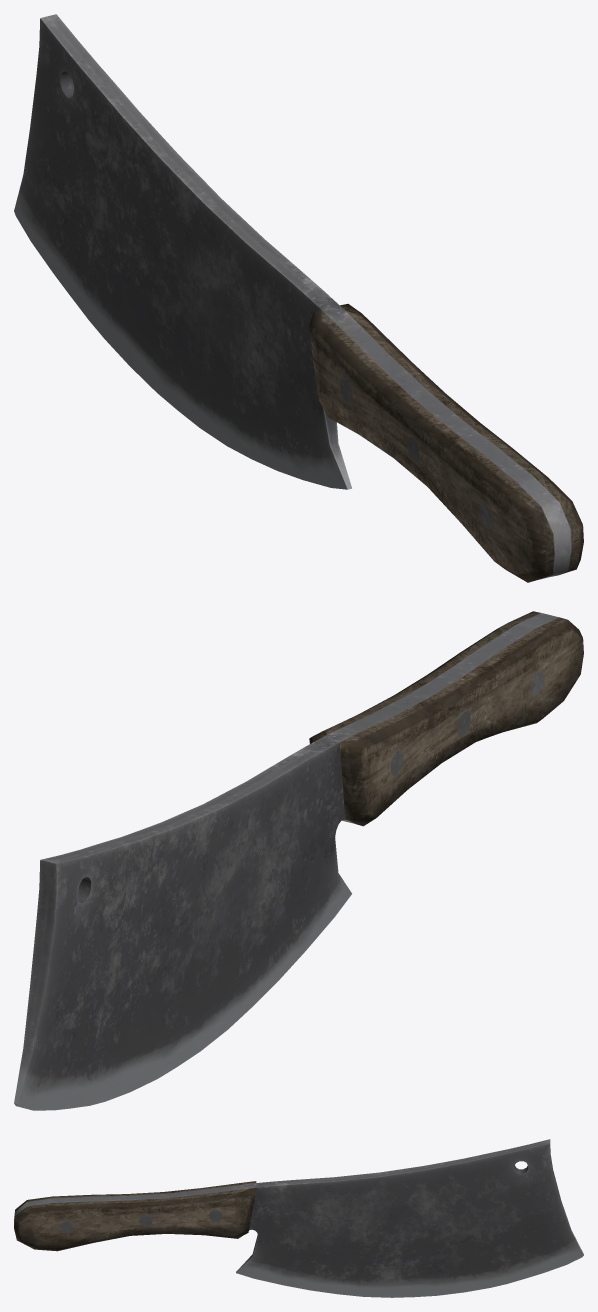
Rendered from b_satir.glb.
3 renders of one model, top to bottom at view 1: azimuth 30°, elevation 25°; view 2: azimuth 150°, elevation 25°; view 3: azimuth 270°, elevation 25°, orthographic. The views are drawn at different scales.
Visible parts, largest first — view 1: govde; view 2: govde; view 3: govde.
Boxes of the visible parts, <box> form: govde: <box>14,14,583,582</box>; govde: <box>14,611,583,1110</box>; govde: <box>14,1139,583,1297</box>.
Size of the model in its own units: 0.0182 by 0.1 by 0.33.
Materials: 1 (1 with a texture image).
